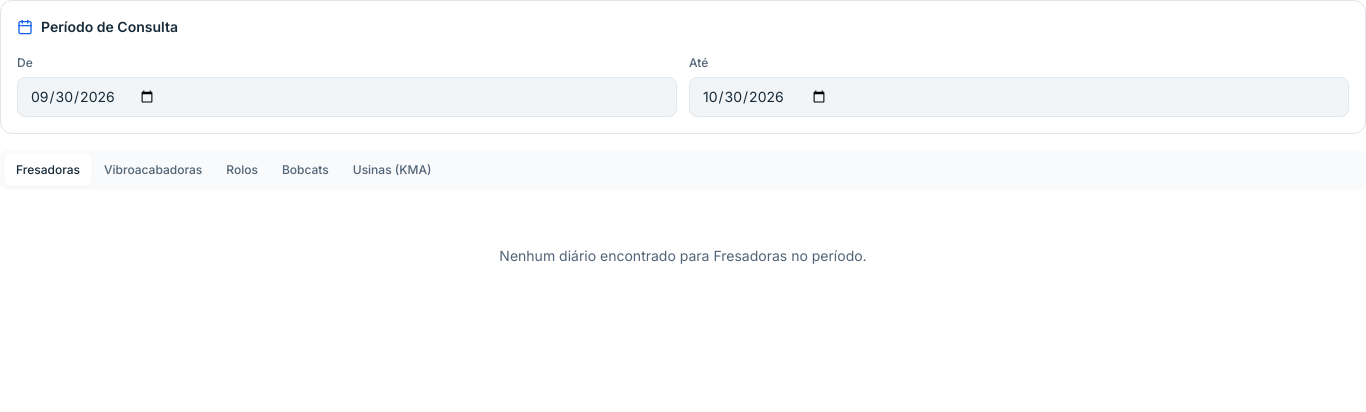
Test: visão unificada dos equipamentos › inclui variações de tipo já existentes nos diários de rolo, vibro e usina
This screenshot has width=1366, height=412.
Expected: the text "Nenhum diário encontrado para Fresadoras no período." is shown, [499,246,867,266]
Press the mouse on the tab "Rolos" at (242, 170), box [214,154,270,186]
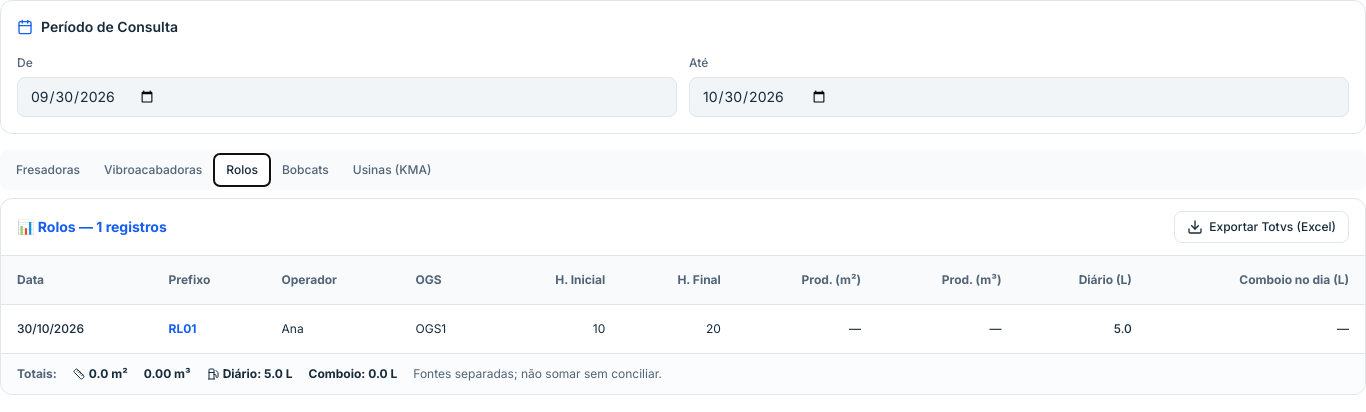
Expected: the text "RL01" is shown, [153,304,266,352]
Press the mouse on the tab "Vibroacabadoras" at (153, 170), box [92,154,214,186]
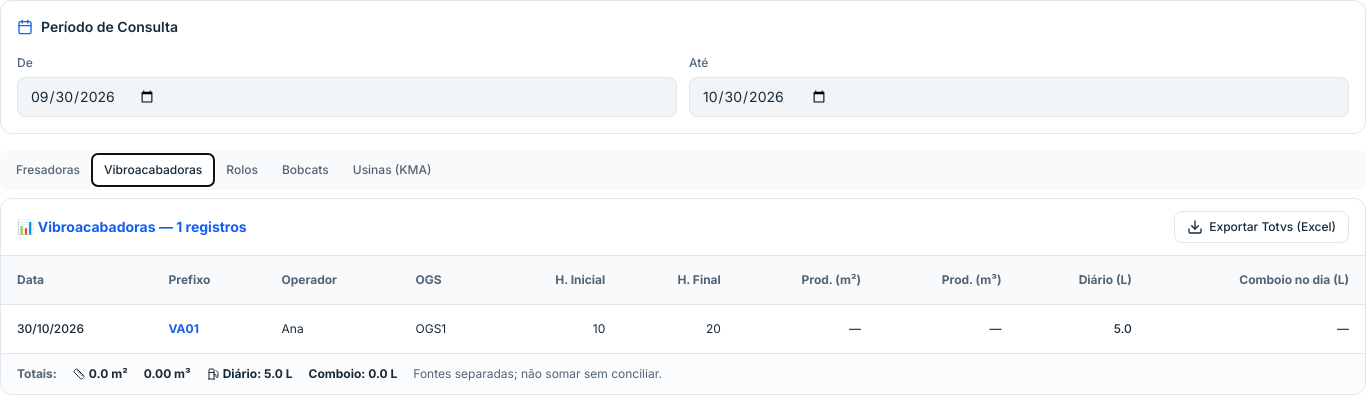
Expected: the text "VA01" is shown, [153,304,266,352]
Press the mouse on the tab "Usinas (KMA)" at (392, 170), box [341,154,443,186]
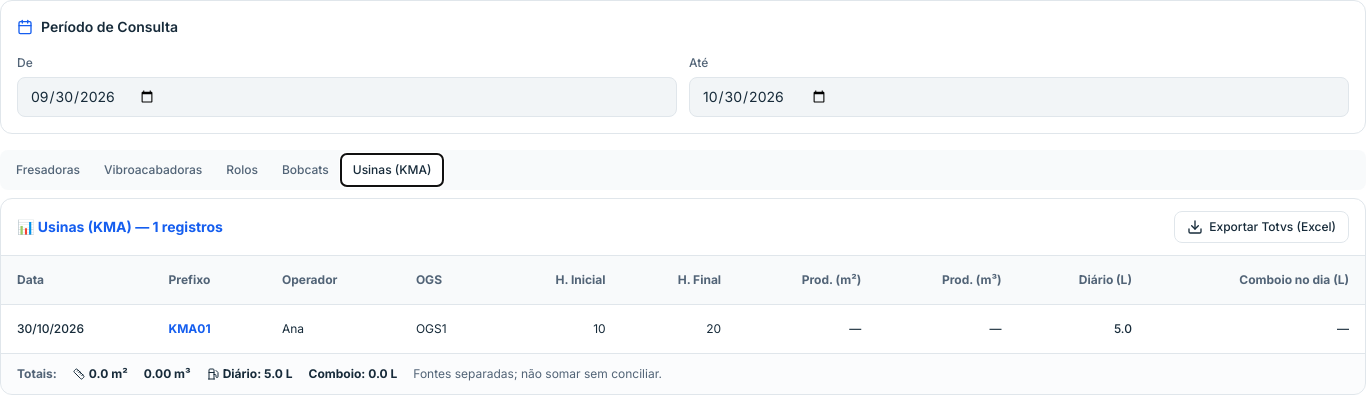
Expected: the text "KMA01" is shown, [152,304,266,352]
